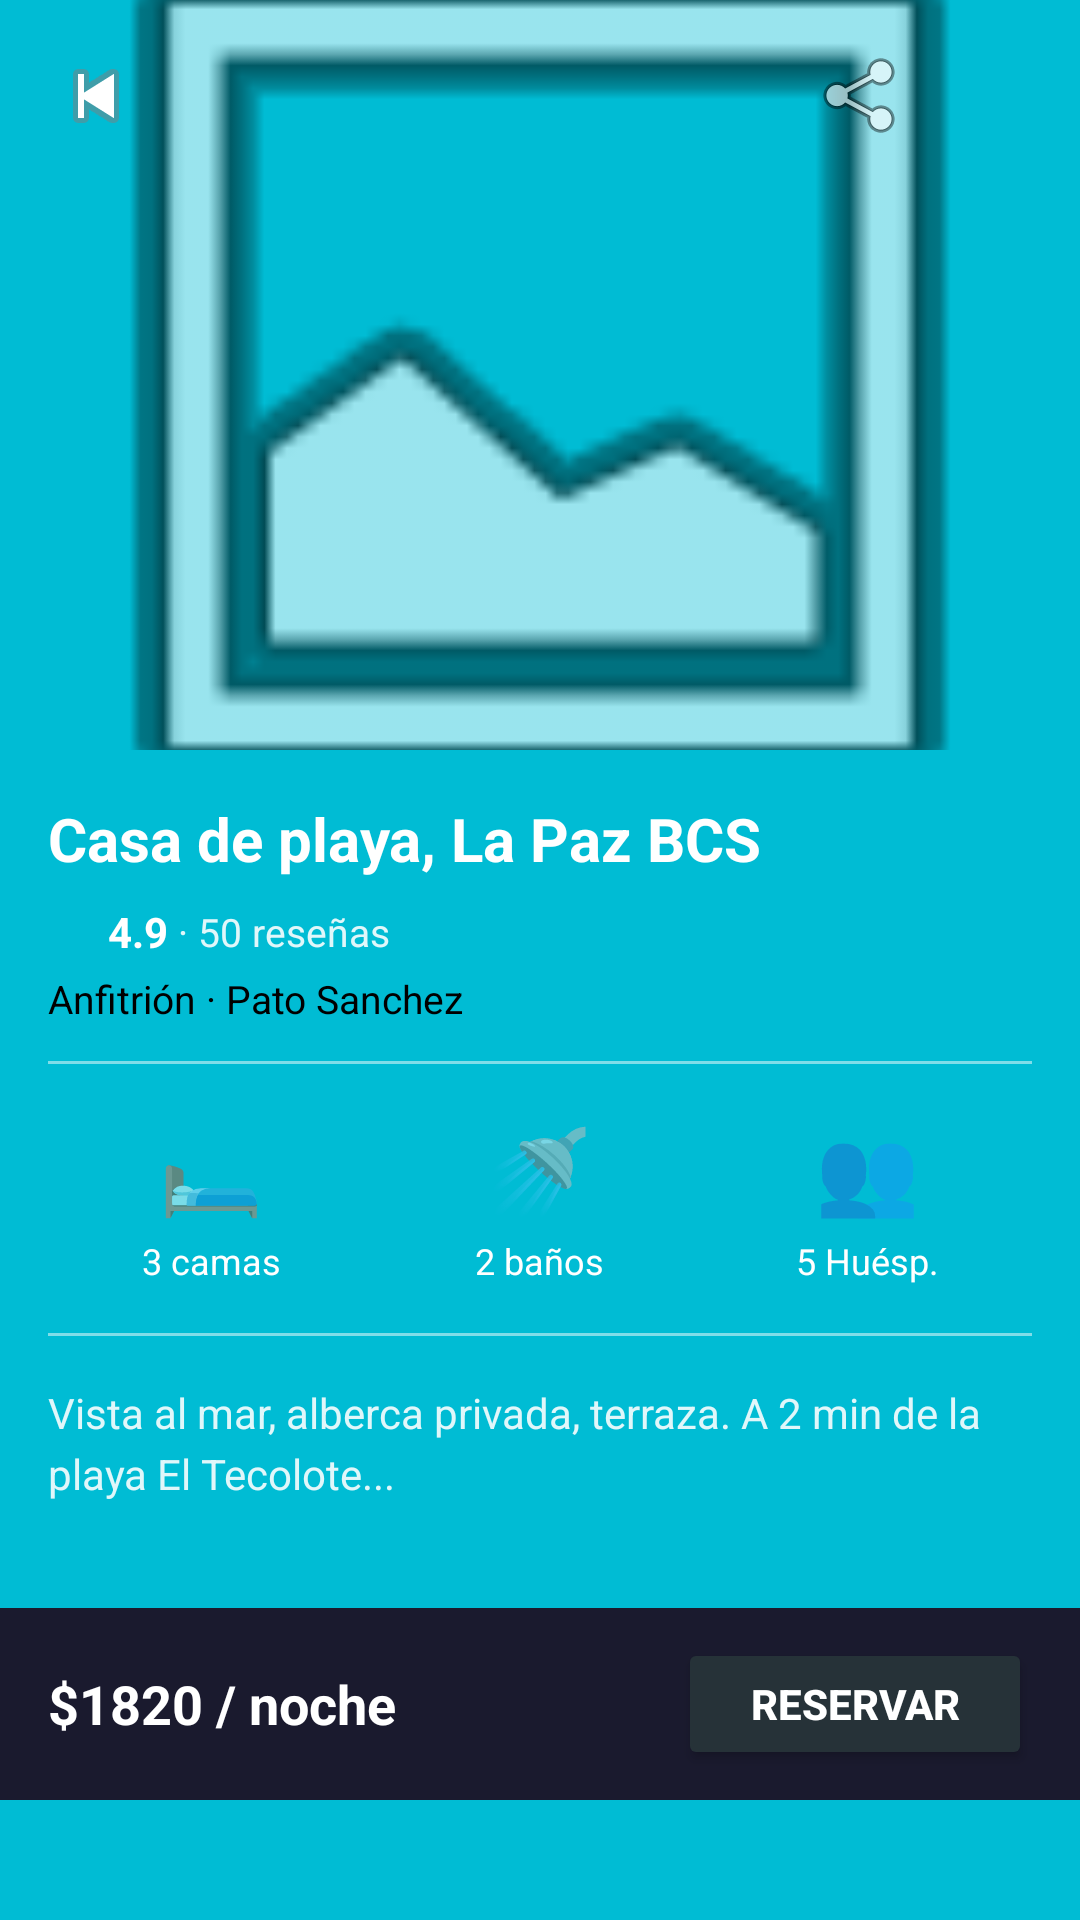

Screen size 1080w x 1920h. Icon name, then its center in pixels as (x,y):
share: (864,96)
